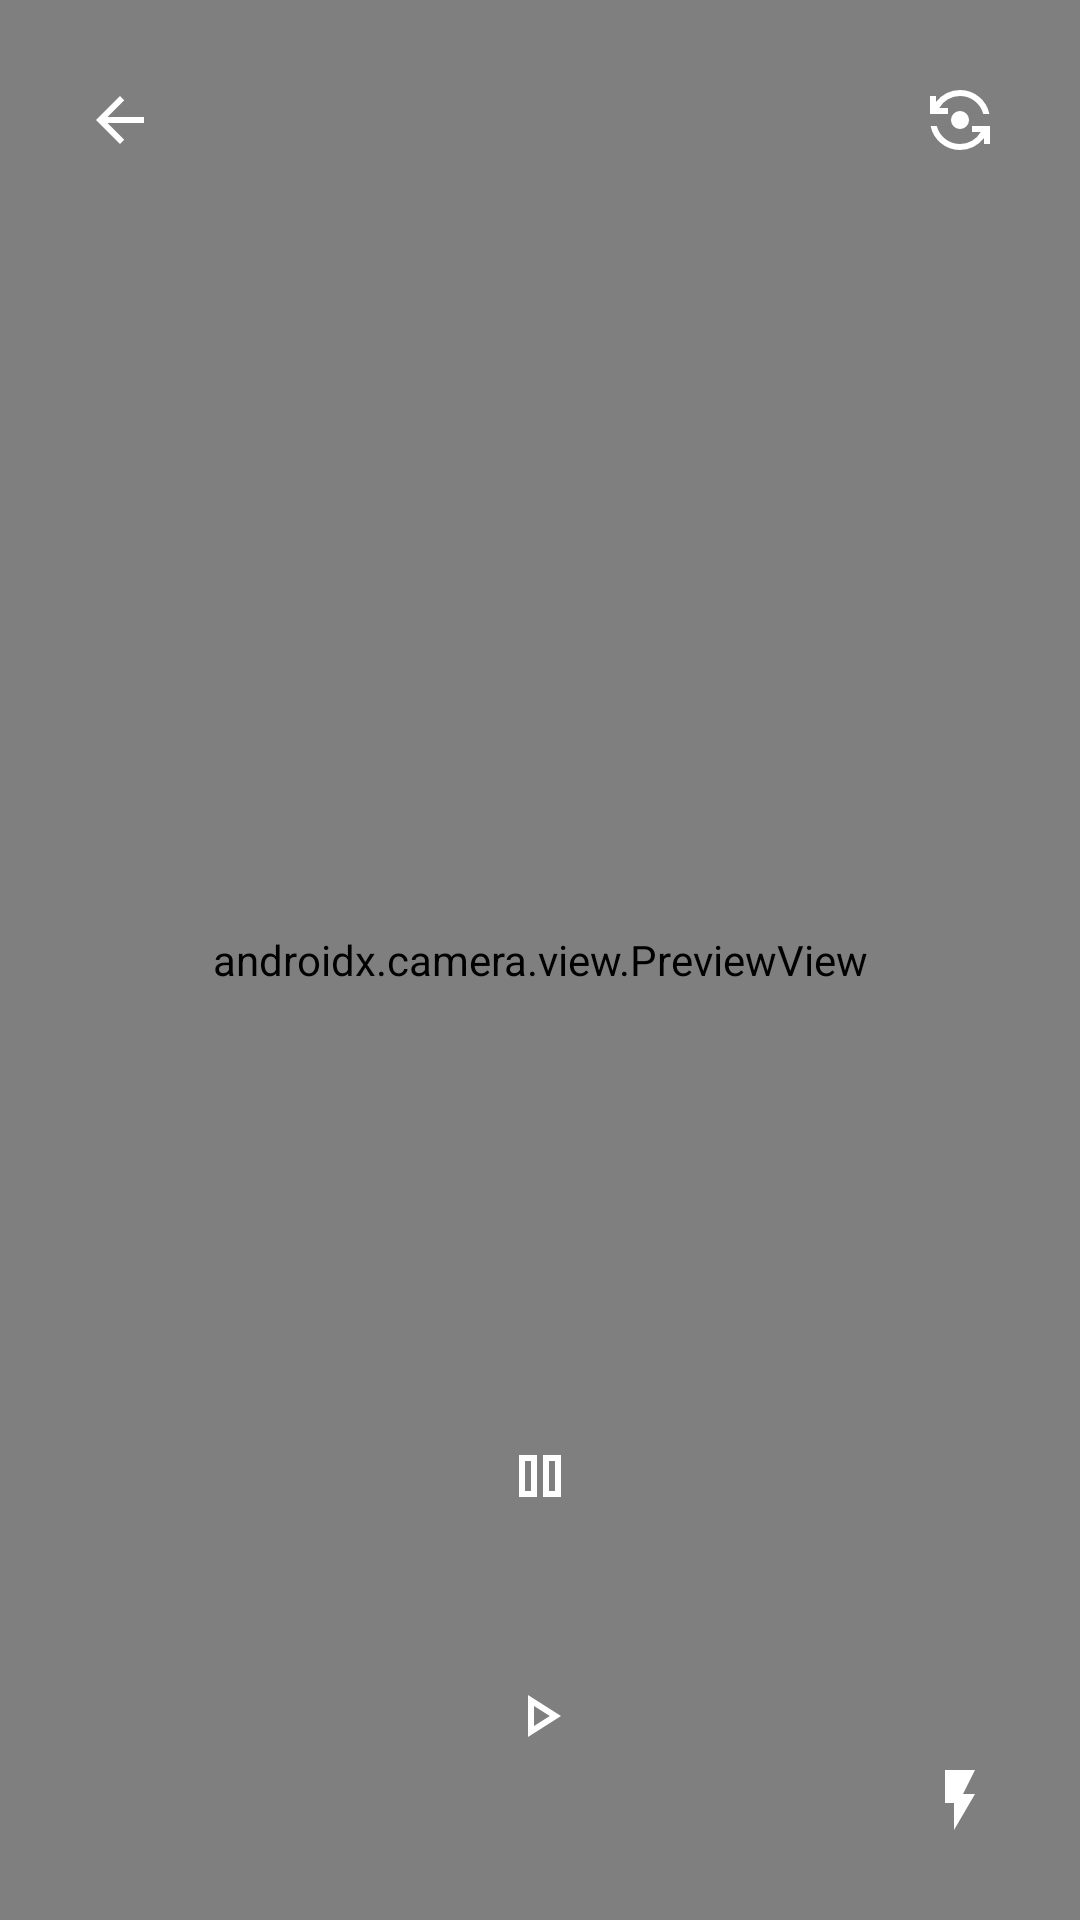

Where to tap for icons on this 1080×1920 app screen, as [x,y]:
Cambiar cámara: [960,120]
Flash: [960,1800]
Pause: [540,1476]
Volver: [120,120]
